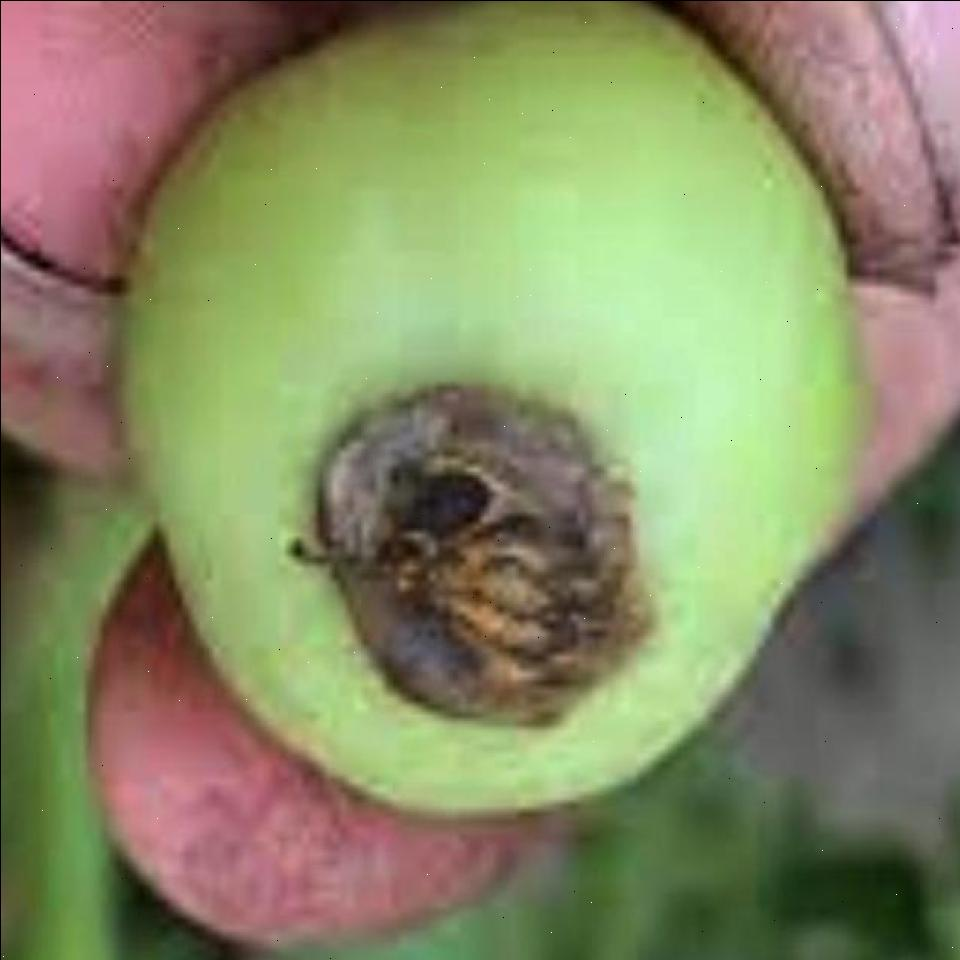Blossom_end_rot: (296, 385, 674, 760)
